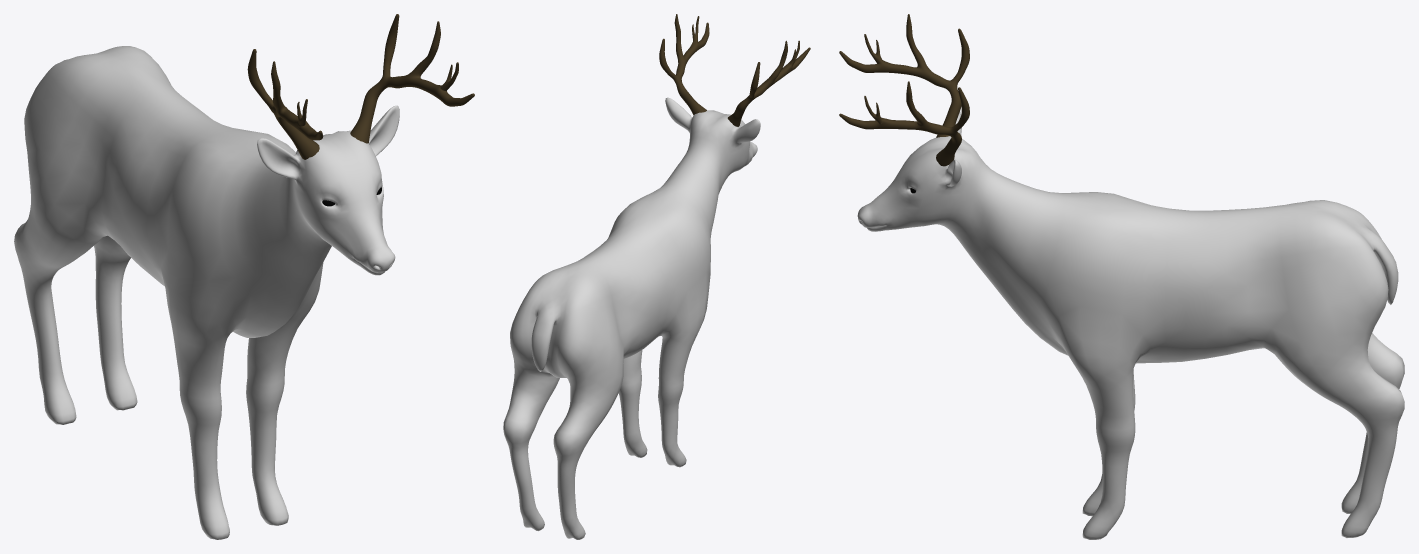
Rendered from venado.fbx.
The picture shows the model from 3 angles, left to right: view 1: azimuth 30°, elevation 25°; view 2: azimuth 150°, elevation 25°; view 3: azimuth 270°, elevation 25°; orthographic projection. The views are drawn at different scales.
Visible parts, largest first — view 1: Plane.001; view 2: Plane.001; view 3: Plane.001.
Part boxes in pixels (box(x1,y1,x2,y2)): Plane.001: box(14, 14, 474, 539); Plane.001: box(503, 14, 810, 539); Plane.001: box(839, 14, 1404, 539).
Size of the model in its own units: 2.45 by 7.86 by 8.44.
